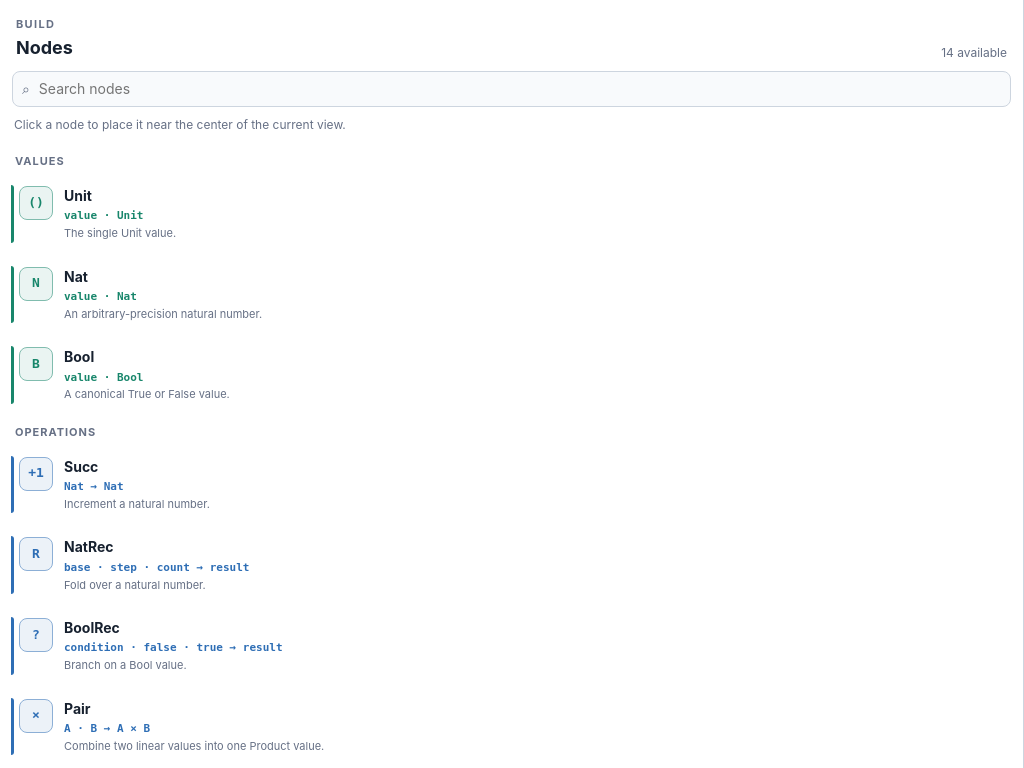
it: NodePalette › searches names, signatures, descriptions, and keywords
Type "fold" into the search field labelled "Search nodes" at (519, 89), box [37,78,1001,100]
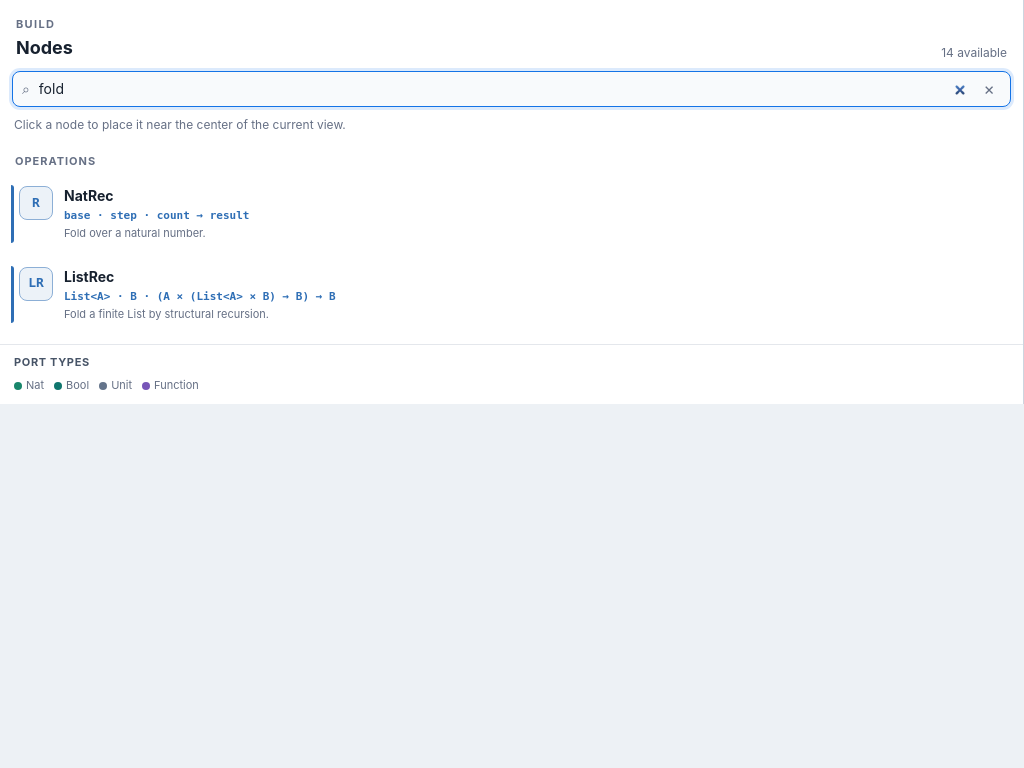
Expected: the button with aria-label "Add NatRec" is shown, [10,176,1013,252]
Clear the search field named "Search nodes" at (503, 89), box [37,78,970,100]
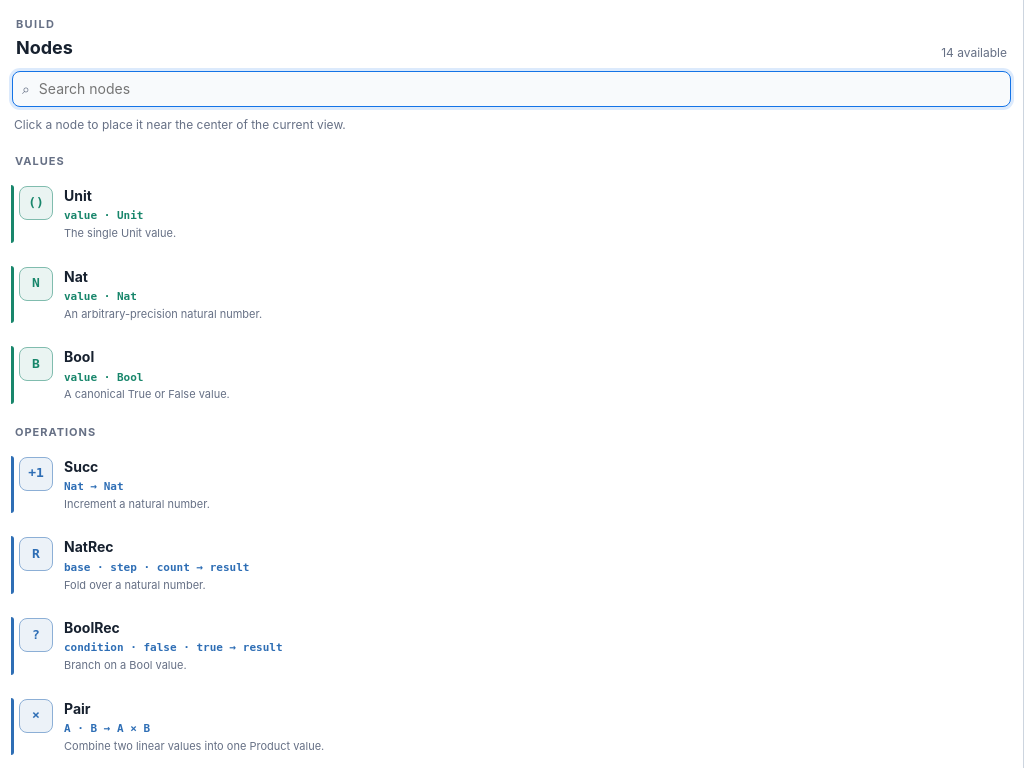
Type "does not exist" into the search field labelled "Search nodes" at (519, 89), box [37,78,1001,100]
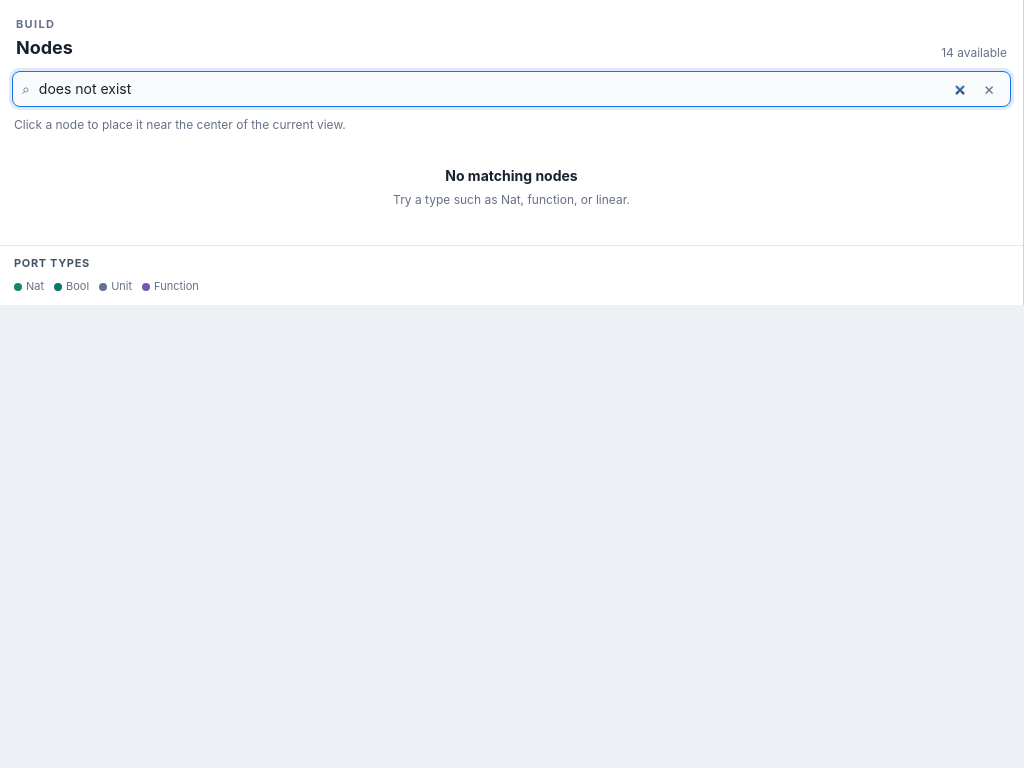
Result: the message shows "No matching nodes" at [445,167,578,184]
